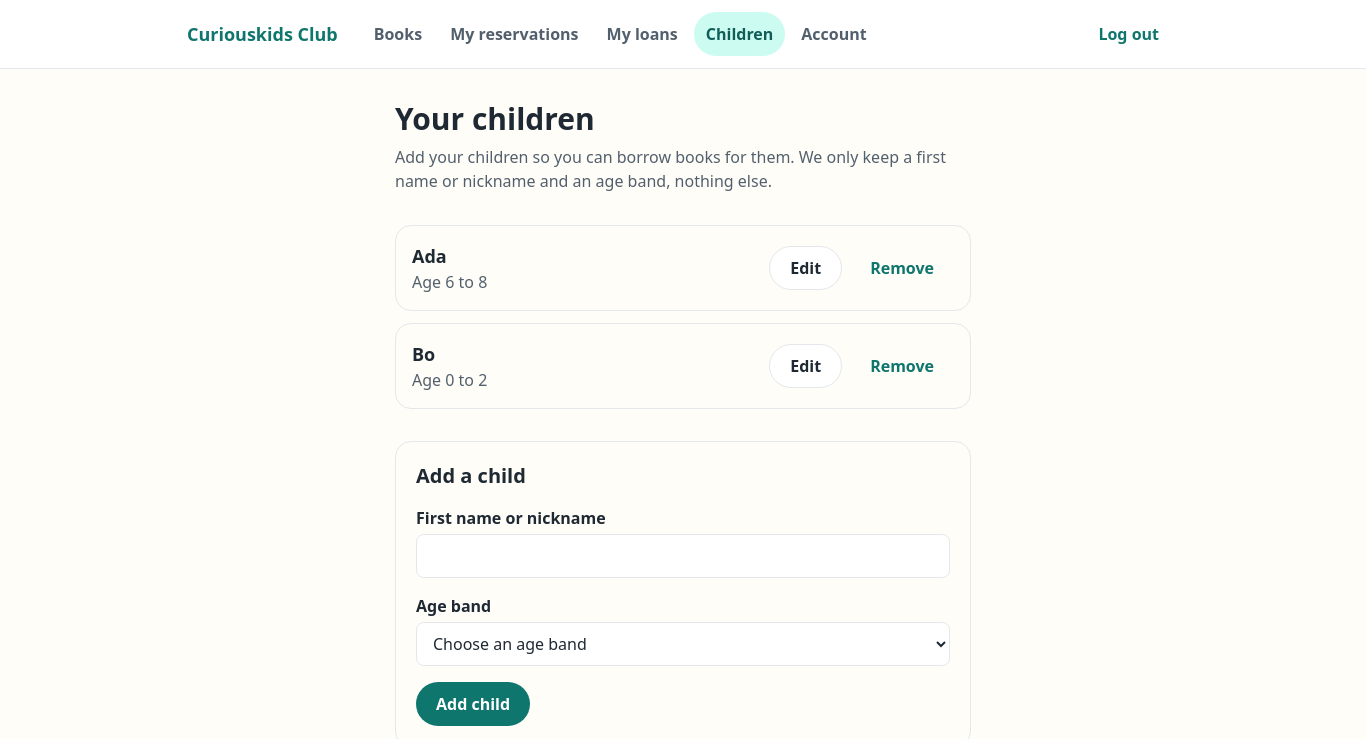
Scenario: Your children page › FR-ID-05: removes a child after confirming
What coordinates should you click on to do the following:
click the button with aria-label "Remove Bo"
I would click on:
 (902, 366)
Its box is [850,344,954,388].
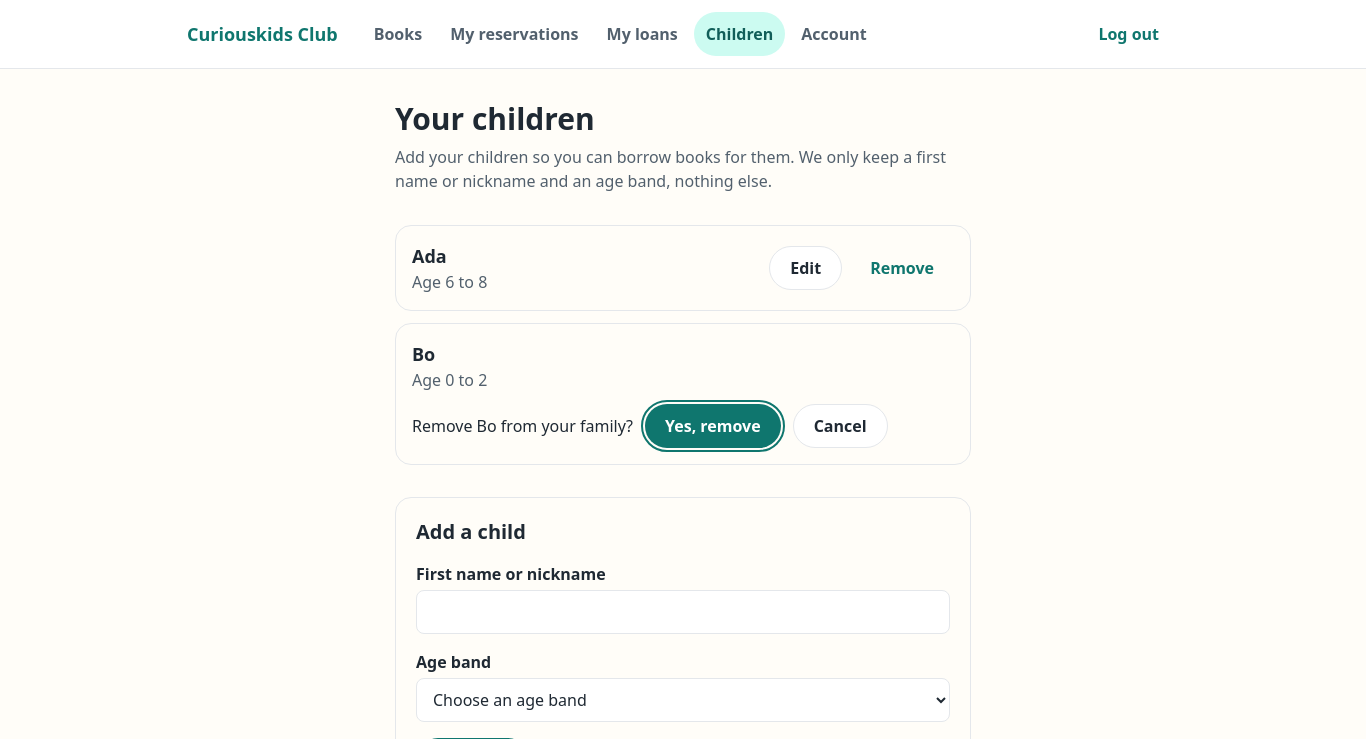
Expected: the text "Remove Bo from your family?" is shown, [412,414,633,438]
What coordinates should you click on to do the following:
click the button "Yes, remove"
I would click on:
 (713, 426)
Its box is [645,404,781,448].
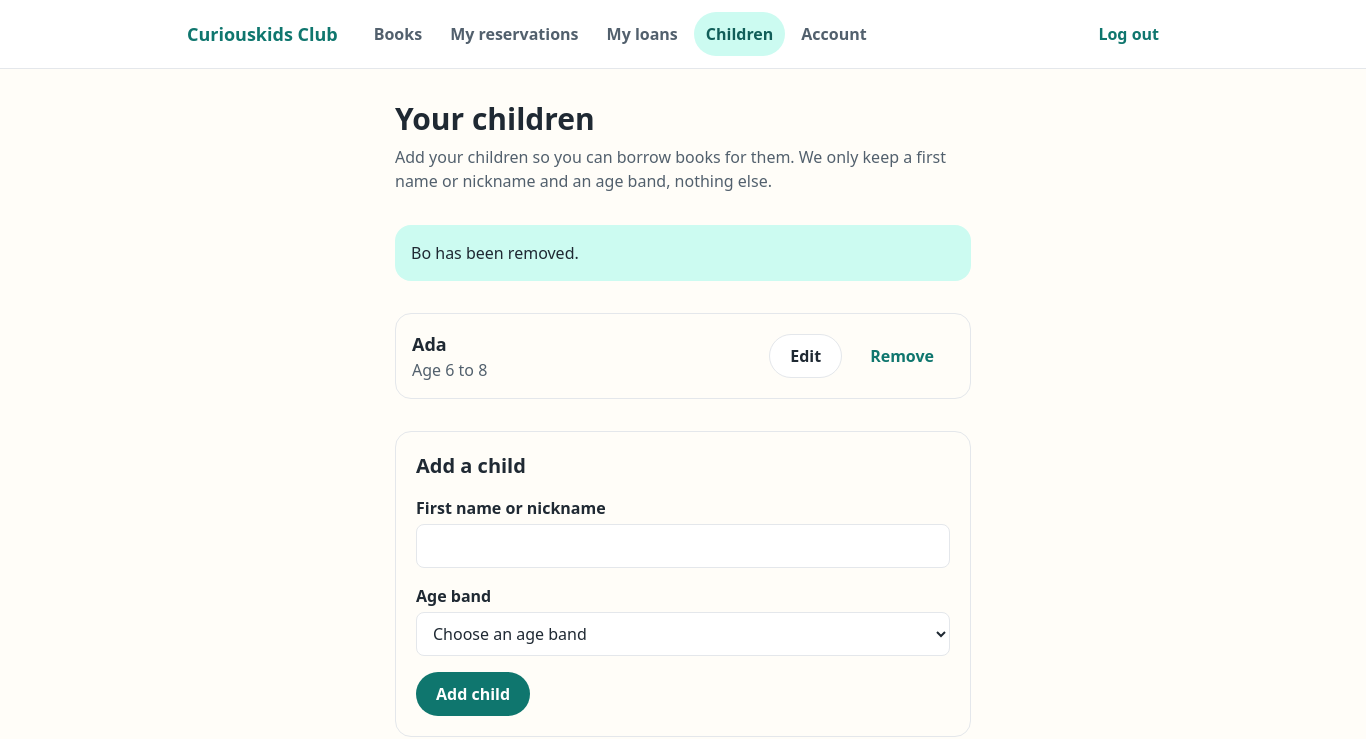
Expected: the text "Ada" is shown, [412,332,447,356]
Expected: the text "Bo has been removed." is shown, [395,225,971,281]
Expected: the text "Remove Bo" is gone
